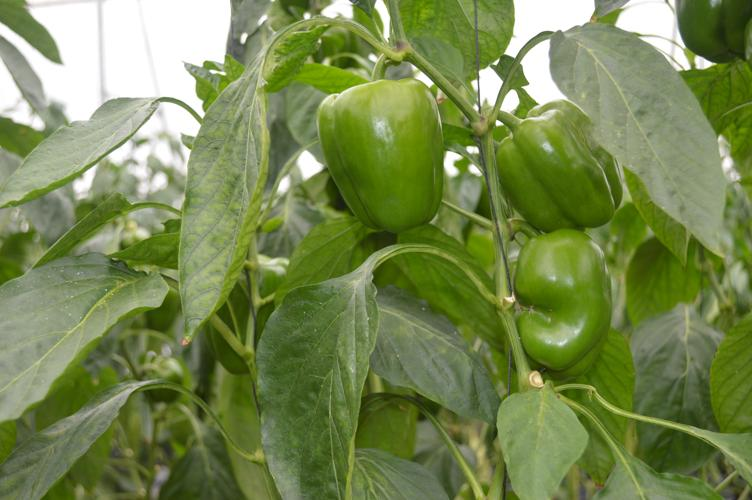BellPepper: (318, 80, 448, 236), (483, 101, 630, 230), (502, 236, 620, 374)
